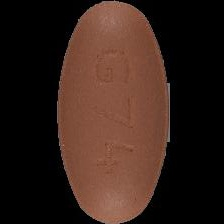50090-1566: (0, 0, 224, 224)
